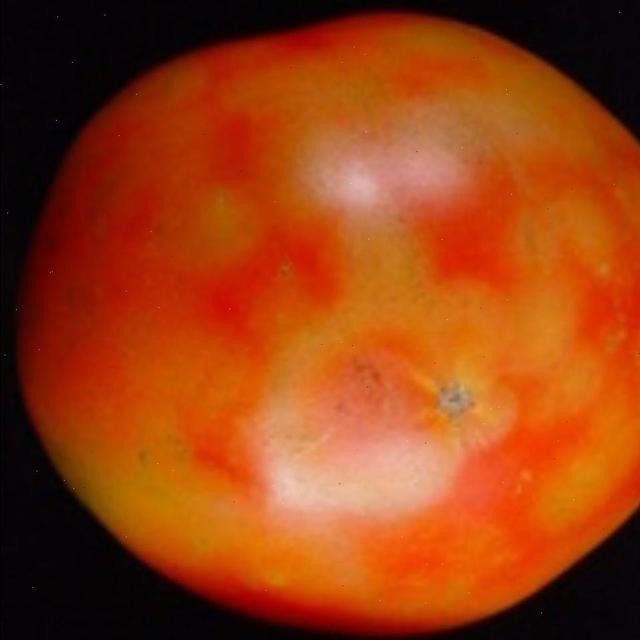Spotted wilt Virus Fruit: (218, 54, 635, 139)
